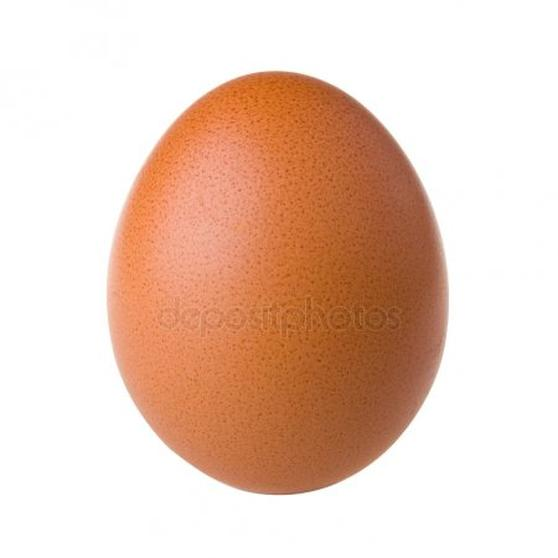egg: (112, 72, 453, 499)
